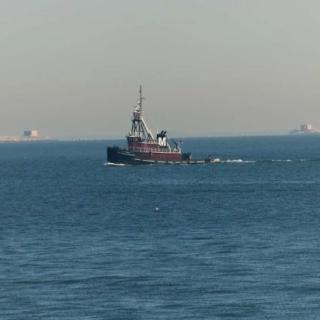Tug Boat: (107, 82, 188, 165)
